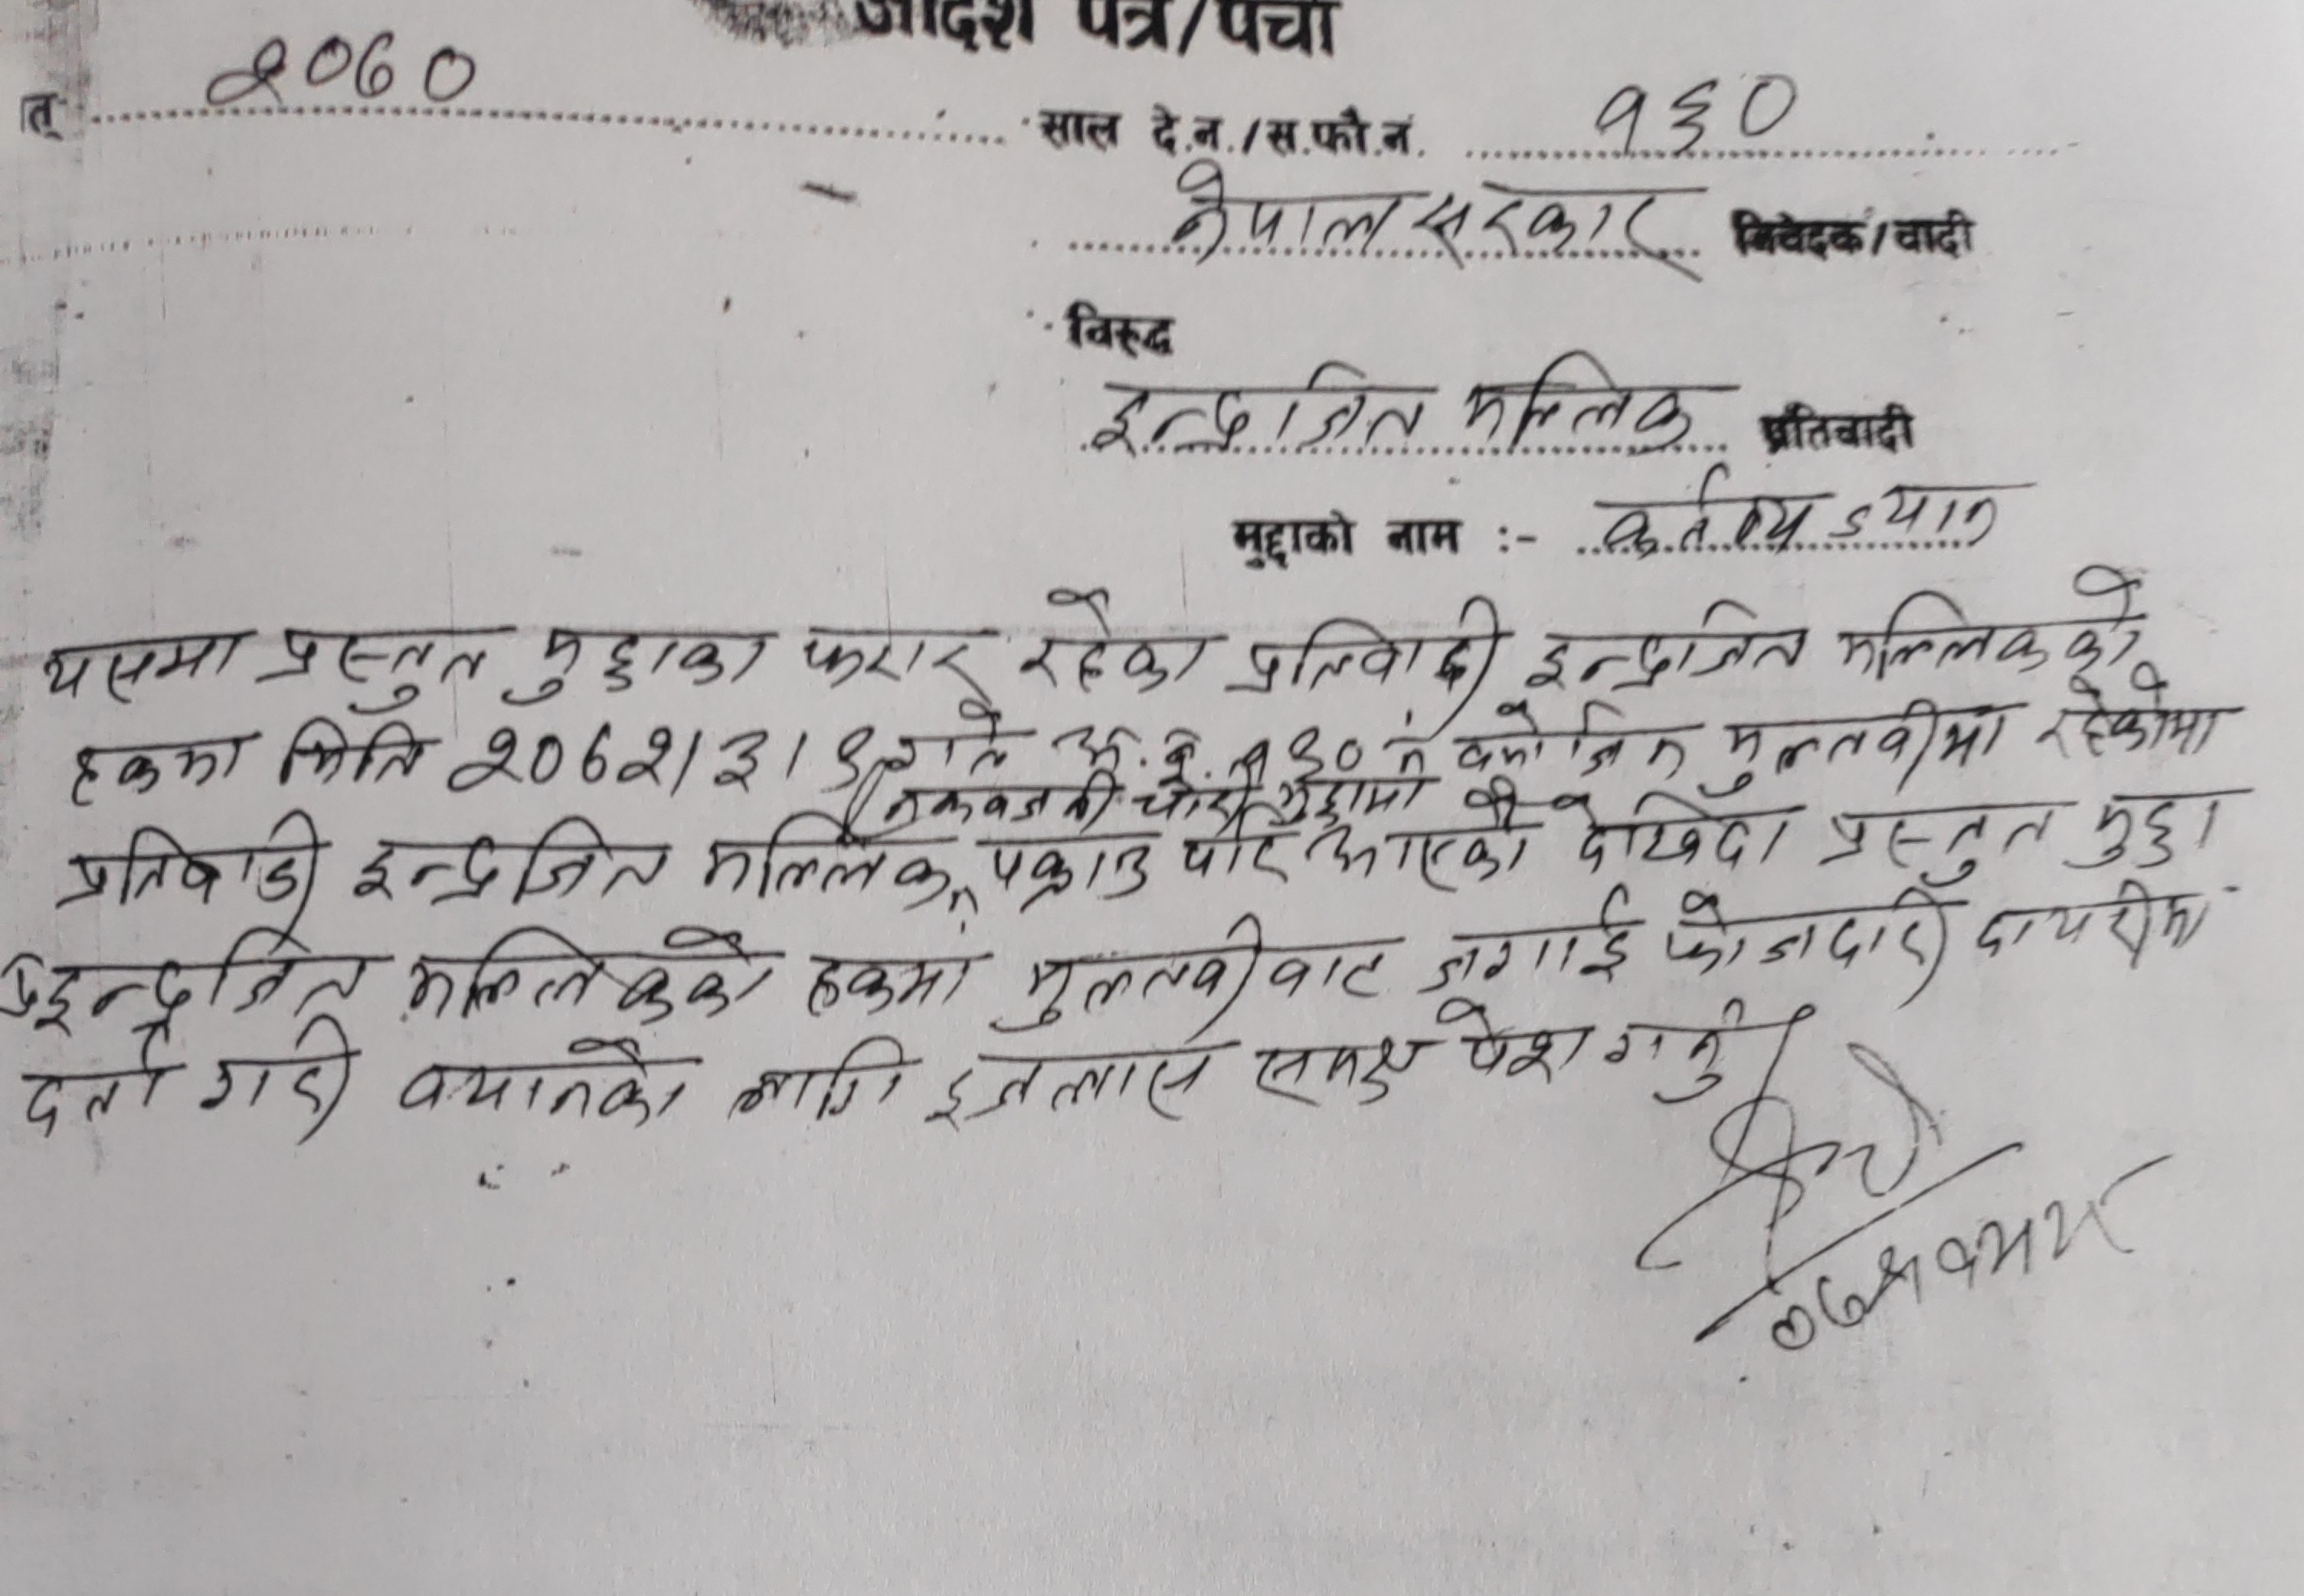text: (998, 905, 1397, 1032), (403, 922, 774, 1027), (441, 705, 877, 795), (39, 922, 382, 1031), (1838, 557, 2146, 677), (1091, 359, 1434, 460), (347, 810, 672, 910), (1707, 691, 2015, 795), (1415, 168, 1696, 280), (1658, 884, 1949, 987), (1236, 590, 1507, 700), (1525, 598, 1819, 698), (397, 1032, 699, 1129), (1457, 343, 1707, 457), (60, 803, 322, 910), (1166, 149, 1402, 264), (697, 805, 954, 910), (1415, 882, 1640, 996), (508, 614, 774, 711), (203, 26, 483, 116), (923, 1048, 1217, 1132), (257, 611, 488, 716), (1576, 464, 1826, 555), (1977, 879, 2218, 971), (1556, 784, 1798, 873), (1019, 586, 1213, 695), (196, 1006, 357, 1136), (1451, 698, 1696, 782), (1817, 803, 2055, 884), (1584, 68, 1817, 149), (2033, 677, 2239, 767), (1306, 823, 1534, 901), (16, 1027, 182, 1134), (723, 1031, 910, 1122), (1605, 998, 1749, 1110), (35, 626, 240, 704), (972, 835, 1159, 915), (2071, 782, 2239, 872), (61, 730, 252, 807), (1243, 1031, 1429, 1108), (278, 707, 434, 798), (1437, 998, 1595, 1087), (800, 614, 980, 691), (1831, 474, 2010, 551), (798, 948, 972, 1025), (882, 700, 1015, 781), (1177, 802, 1299, 887)
